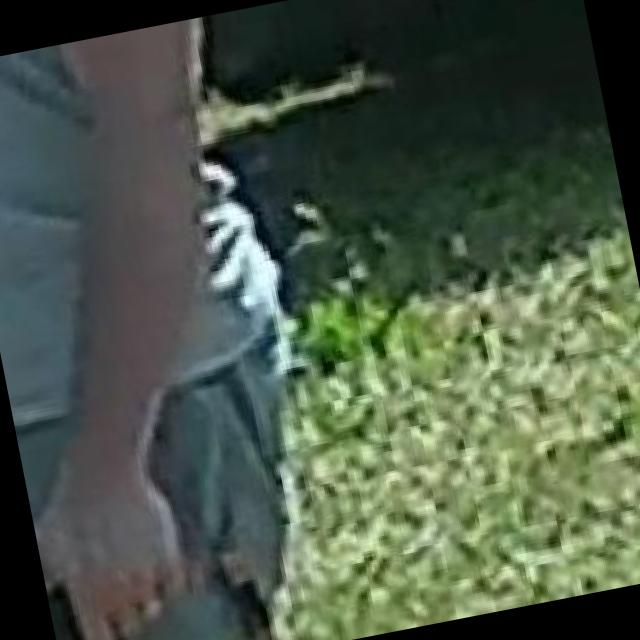Guns: (41, 547, 142, 640)
